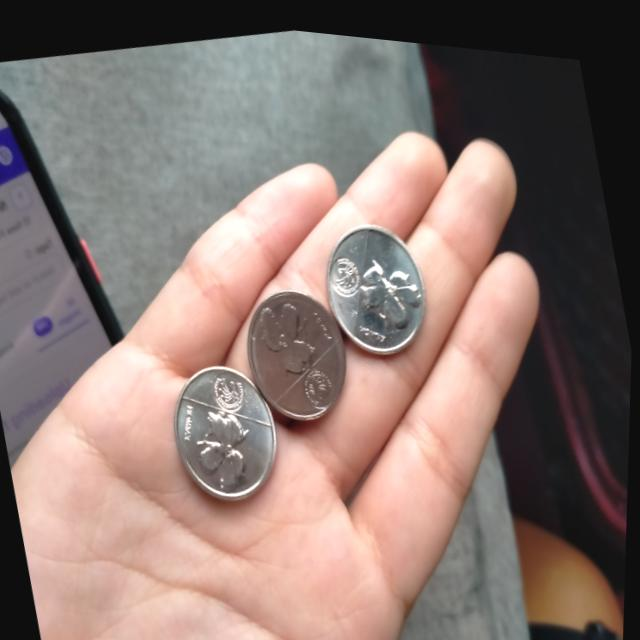25Cent_New_Back: (186, 390, 266, 497), (348, 239, 430, 331), (254, 288, 331, 379)
